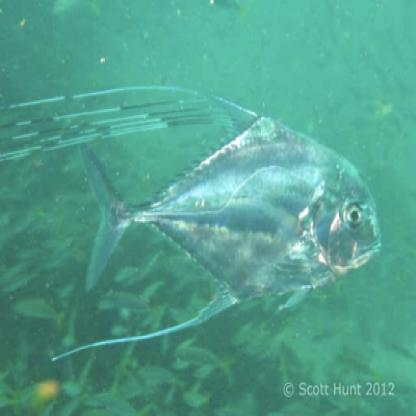jack: (2, 82, 390, 359)
